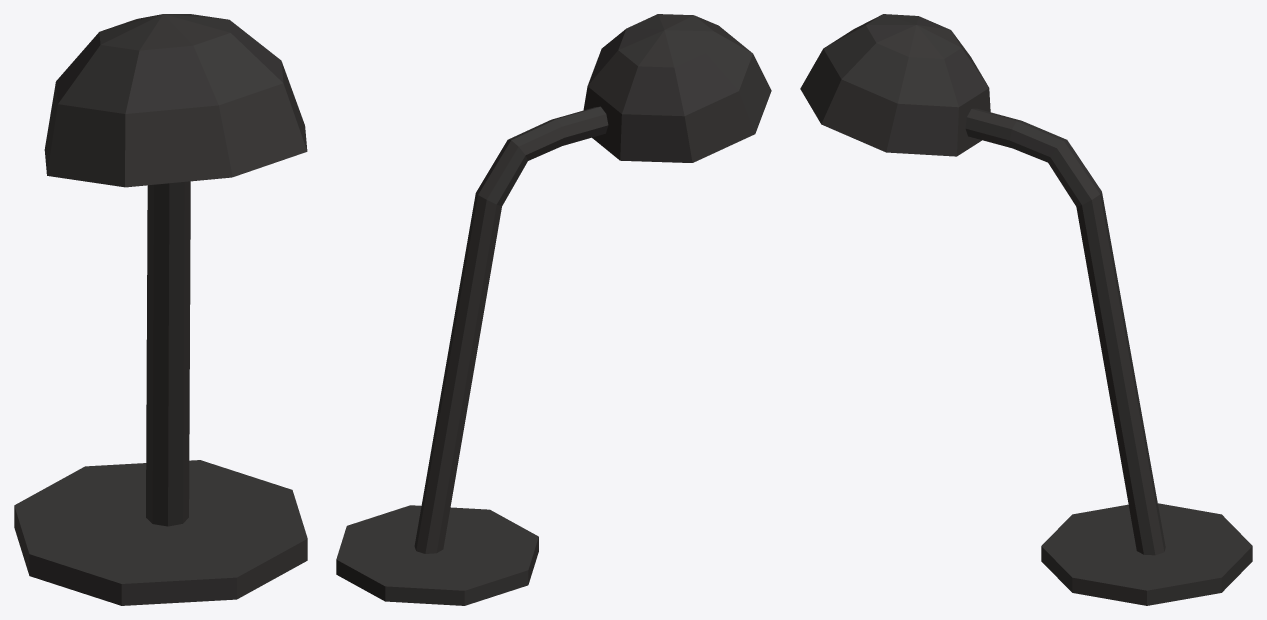
File: SM_Lamp_A.glb
3 views of the same model, side by side, from view 1: azimuth 30°, elevation 25°; view 2: azimuth 150°, elevation 25°; view 3: azimuth 270°, elevation 25° (orthographic). The views are drawn at different scales.
Parts seen in each view (by area): view 1: SM_Lamp_A; view 2: SM_Lamp_A; view 3: SM_Lamp_A.
Boxes of the visible parts, x1,y1,x2,y2 form: SM_Lamp_A: [14, 14, 307, 605]; SM_Lamp_A: [336, 14, 771, 605]; SM_Lamp_A: [800, 14, 1252, 605].
Size of the model in its own units: 0.2759 by 0.435 by 0.371.
1 material, 1 textured.
